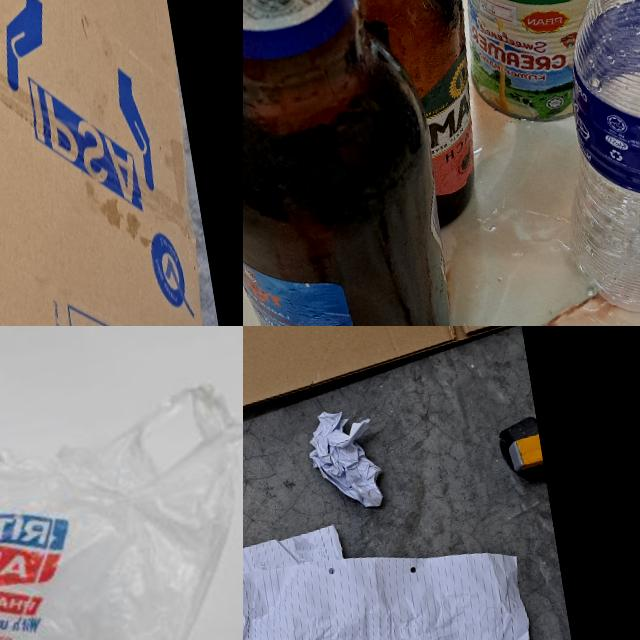garrafa de vidro: (243, 0, 466, 326), (309, 0, 494, 238)
garrafa plástica: (522, 0, 640, 324)
lata: (446, 0, 640, 131)
papel: (243, 499, 548, 640), (304, 403, 390, 520)
papelão: (0, 0, 228, 326), (243, 326, 527, 418)
sacola plástica: (0, 326, 243, 640)
